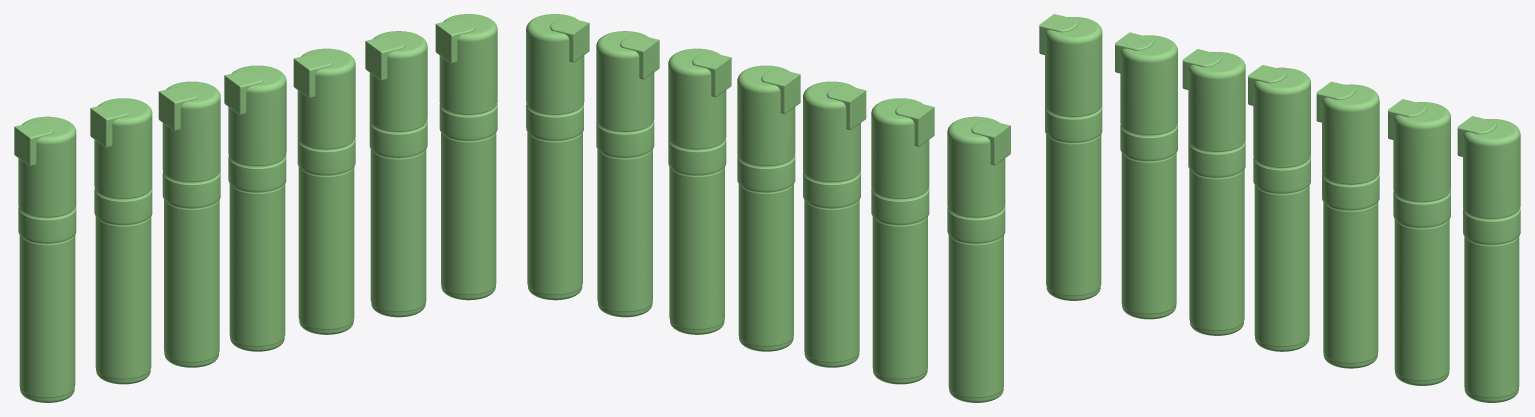
Rendered from environmentproject_paintpen.fbx.
The picture shows the model from 3 angles, left to right: view 1: azimuth 30°, elevation 25°; view 2: azimuth 150°, elevation 25°; view 3: azimuth 330°, elevation 25°; orthographic projection.
Parts seen in each view (by area): view 1: paintpen_c_GEO_01, paintpen_a_GEO_01, paintpen_f_GEO_01, paintpen_e_GEO_01, paintpen_b_GEO_01, paintpen_d_GEO_01, paintpen_g_GEO_01; view 2: paintpen_a_GEO_01, paintpen_c_GEO_01, paintpen_e_GEO_01, paintpen_f_GEO_01, paintpen_b_GEO_01, paintpen_g_GEO_01, paintpen_d_GEO_01; view 3: paintpen_e_GEO_01, paintpen_b_GEO_01, paintpen_d_GEO_01, paintpen_g_GEO_01, paintpen_a_GEO_01, paintpen_c_GEO_01, paintpen_f_GEO_01.
Part boxes in pixels (<box>): paintpen_c_GEO_01: <box>224,65,286,351</box>; paintpen_a_GEO_01: <box>90,98,152,384</box>; paintpen_f_GEO_01: <box>365,31,427,317</box>; paintpen_e_GEO_01: <box>293,48,355,334</box>; paintpen_b_GEO_01: <box>14,116,76,402</box>; paintpen_d_GEO_01: <box>158,81,220,367</box>; paintpen_g_GEO_01: <box>435,14,497,300</box>; paintpen_a_GEO_01: <box>871,98,934,384</box>; paintpen_c_GEO_01: <box>737,65,800,351</box>; paintpen_e_GEO_01: <box>668,48,731,334</box>; paintpen_f_GEO_01: <box>596,31,659,317</box>; paintpen_b_GEO_01: <box>947,116,1010,402</box>; paintpen_g_GEO_01: <box>526,14,589,300</box>; paintpen_d_GEO_01: <box>803,81,866,367</box>; paintpen_e_GEO_01: <box>1316,81,1379,368</box>; paintpen_b_GEO_01: <box>1039,14,1102,300</box>; paintpen_d_GEO_01: <box>1182,49,1245,335</box>; paintpen_g_GEO_01: <box>1457,116,1520,402</box>; paintpen_a_GEO_01: <box>1115,32,1177,319</box>; paintpen_c_GEO_01: <box>1248,65,1310,351</box>; paintpen_f_GEO_01: <box>1388,99,1450,385</box>.
Size of the model in its own units: 33.92 by 18.36 by 3.61.
